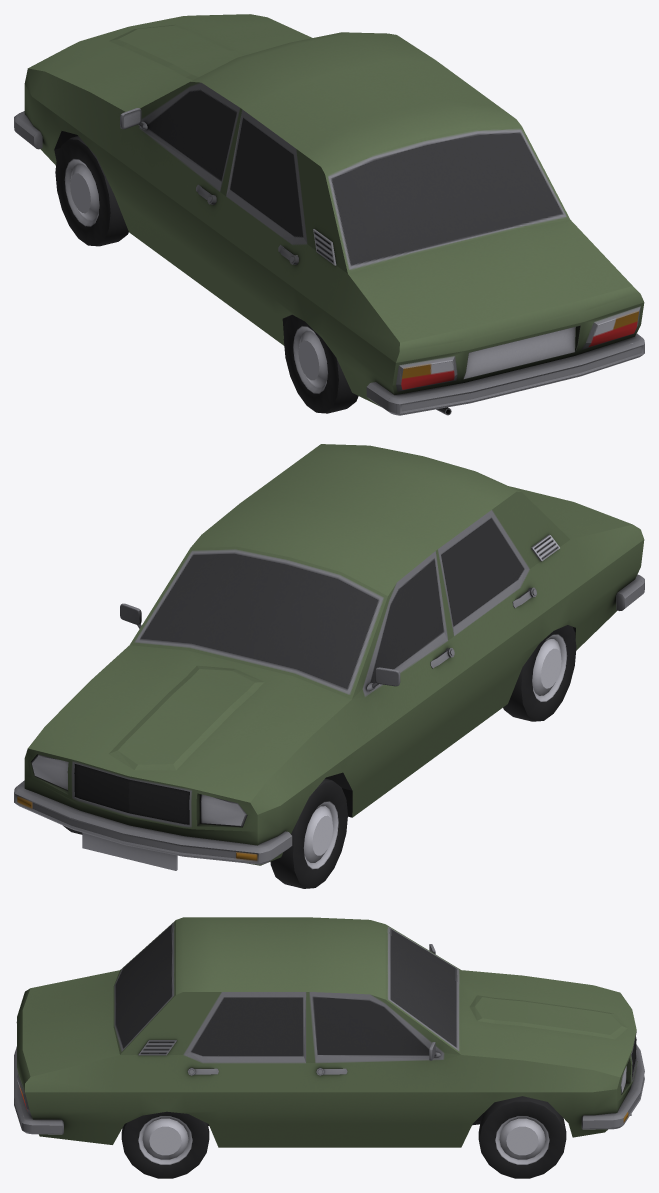
File: Car06.FBX
3 views of the same model, one above another, from view 1: azimuth 30°, elevation 25°; view 2: azimuth 150°, elevation 25°; view 3: azimuth 270°, elevation 25° (orthographic). The views are drawn at different scales.
Visible parts, largest first — view 1: Body, FLWheel, RLWheel; view 2: Body, FLWheel, RLWheel; view 3: Body, FRWheel, RRWheel.
Part boxes in pixels (x1=…): Body: x1=14, y1=14, x2=644, y2=415; FLWheel: x1=55, y1=136, x2=128, y2=246; RLWheel: x1=283, y1=315, x2=358, y2=413; Body: x1=14, y1=444, x2=644, y2=870; FLWheel: x1=270, y1=778, x2=347, y2=888; RLWheel: x1=503, y1=625, x2=576, y2=721; Body: x1=14, y1=917, x2=644, y2=1147; FRWheel: x1=478, y1=1096, x2=566, y2=1178; RRWheel: x1=121, y1=1111, x2=209, y2=1178.
Bounding box in the file's own units: 1.73 × 1.45 × 4.33.
Materials: 2 (2 with a texture image).
